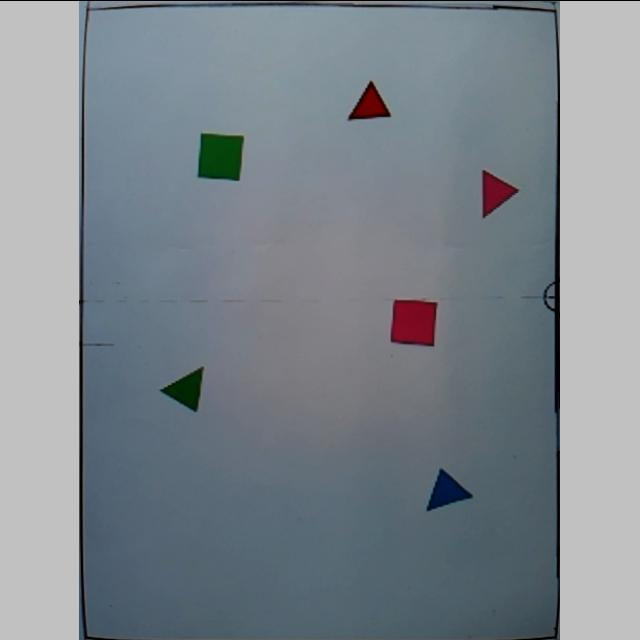blueTriangle: (426, 466, 474, 512)
greenSquare: (199, 130, 247, 182)
greenTriangle: (158, 362, 206, 411)
pinkSquare: (392, 296, 442, 346)
pinkTriangle: (481, 170, 521, 218)
redTriangle: (348, 78, 394, 120)
